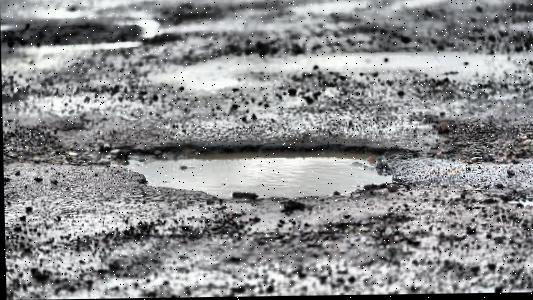pothole: (108, 138, 406, 203)
